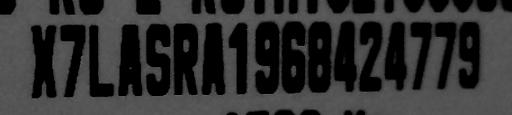letter: (56, 23, 88, 100), (114, 21, 144, 98), (86, 22, 116, 99), (280, 17, 308, 98), (252, 20, 282, 95), (30, 23, 58, 102), (356, 17, 384, 94), (382, 17, 410, 94), (454, 17, 482, 94), (144, 21, 172, 98), (407, 18, 435, 93), (172, 21, 200, 96), (199, 21, 227, 96), (332, 18, 358, 95), (306, 19, 332, 94), (433, 18, 457, 95), (226, 20, 250, 95)
